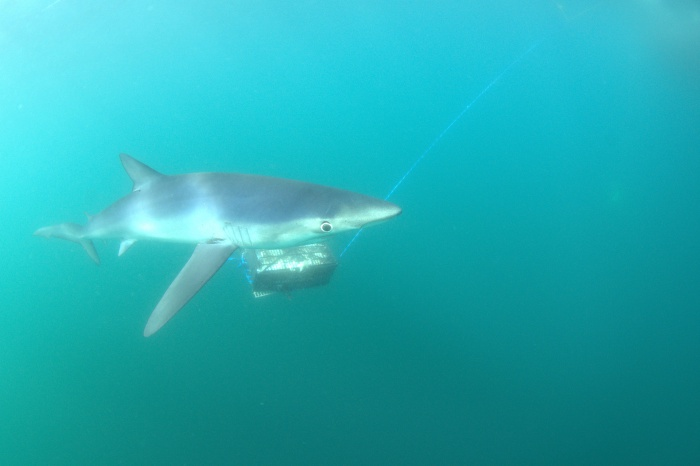Azul: (31, 143, 420, 345)
